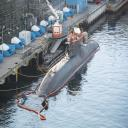submarine: (31, 22, 107, 103)
